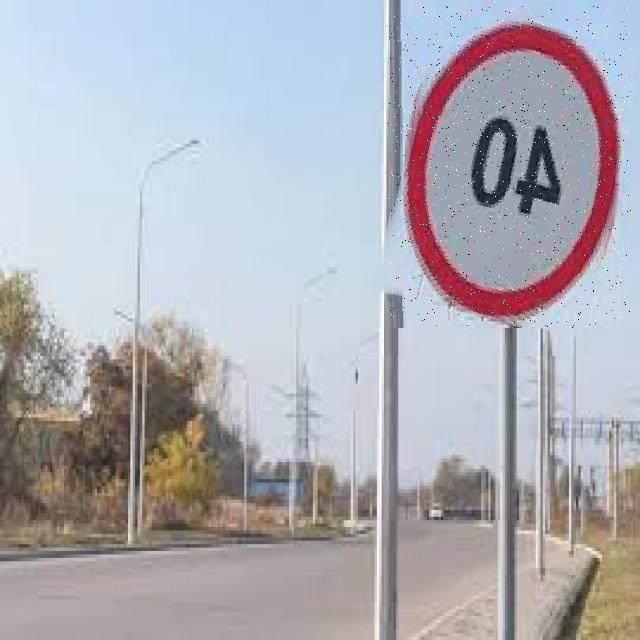speed limit 40: (388, 6, 631, 328)
